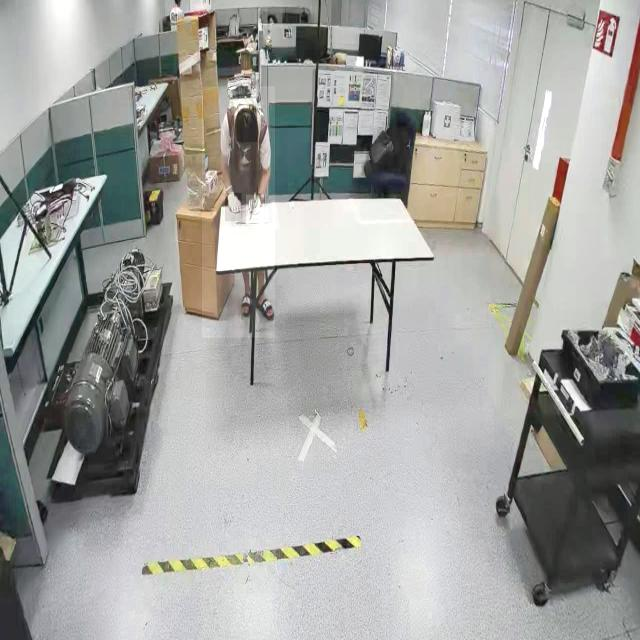hand_glove: (246, 195, 264, 225), (225, 193, 241, 221)
head_nohelmet: (236, 109, 258, 143)
person: (201, 86, 275, 339)
